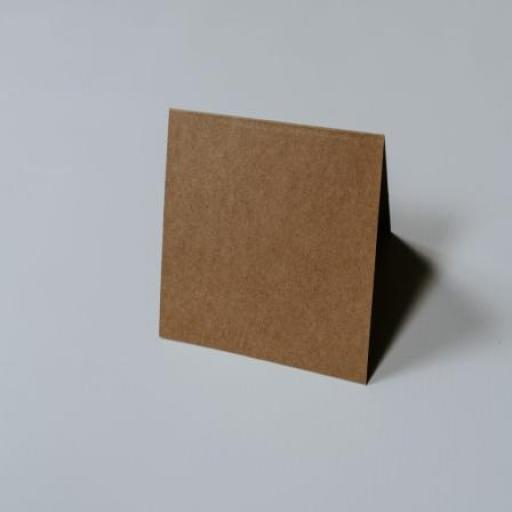paper: (146, 80, 424, 408)
